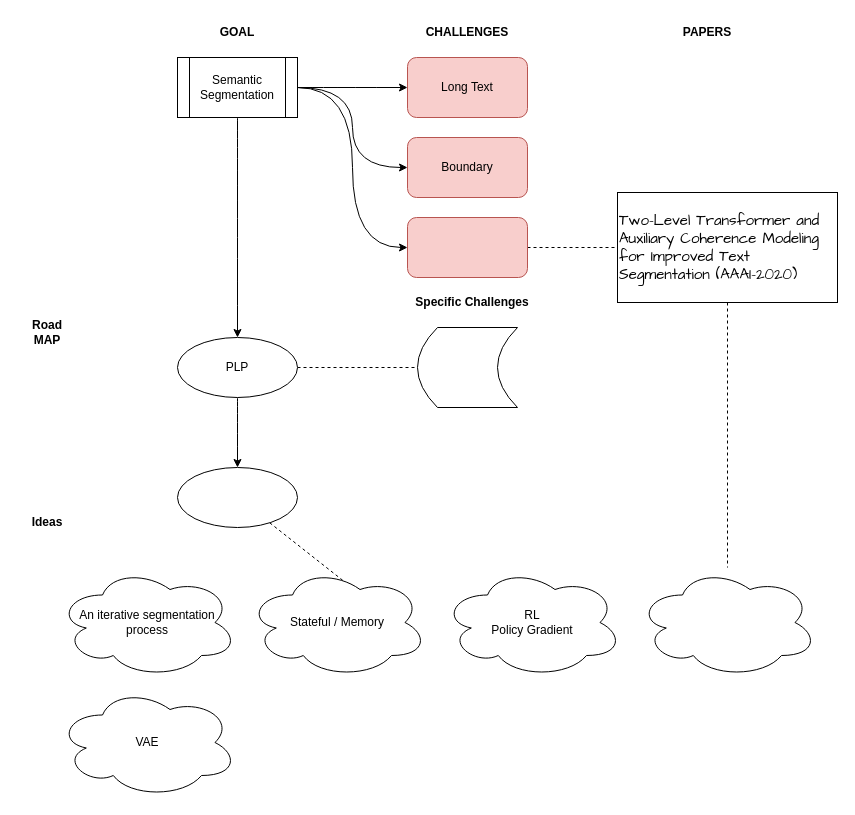
Some shapes in this 855 by 815 pixel diagram are drawn without their labels. Here are the shapes that lost their labels. From the top down, the centre of each, then its label:
At [467,247]: "Context".
At [467,367]: "Research Novelty".
At [237,497]: "Super Long Script".
At [727,622]: "Zero-shot learning".
